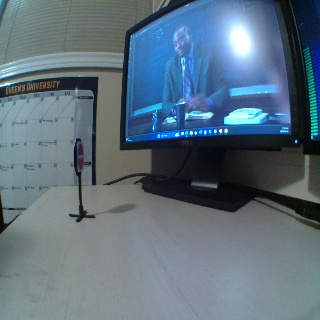sign_noentry: (76, 141, 84, 171)
